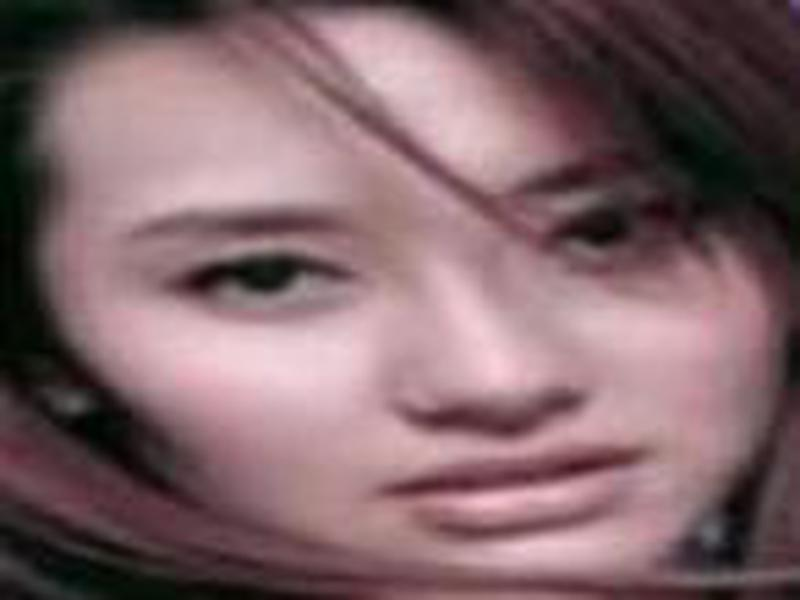without_mask: (24, 66, 778, 588)
